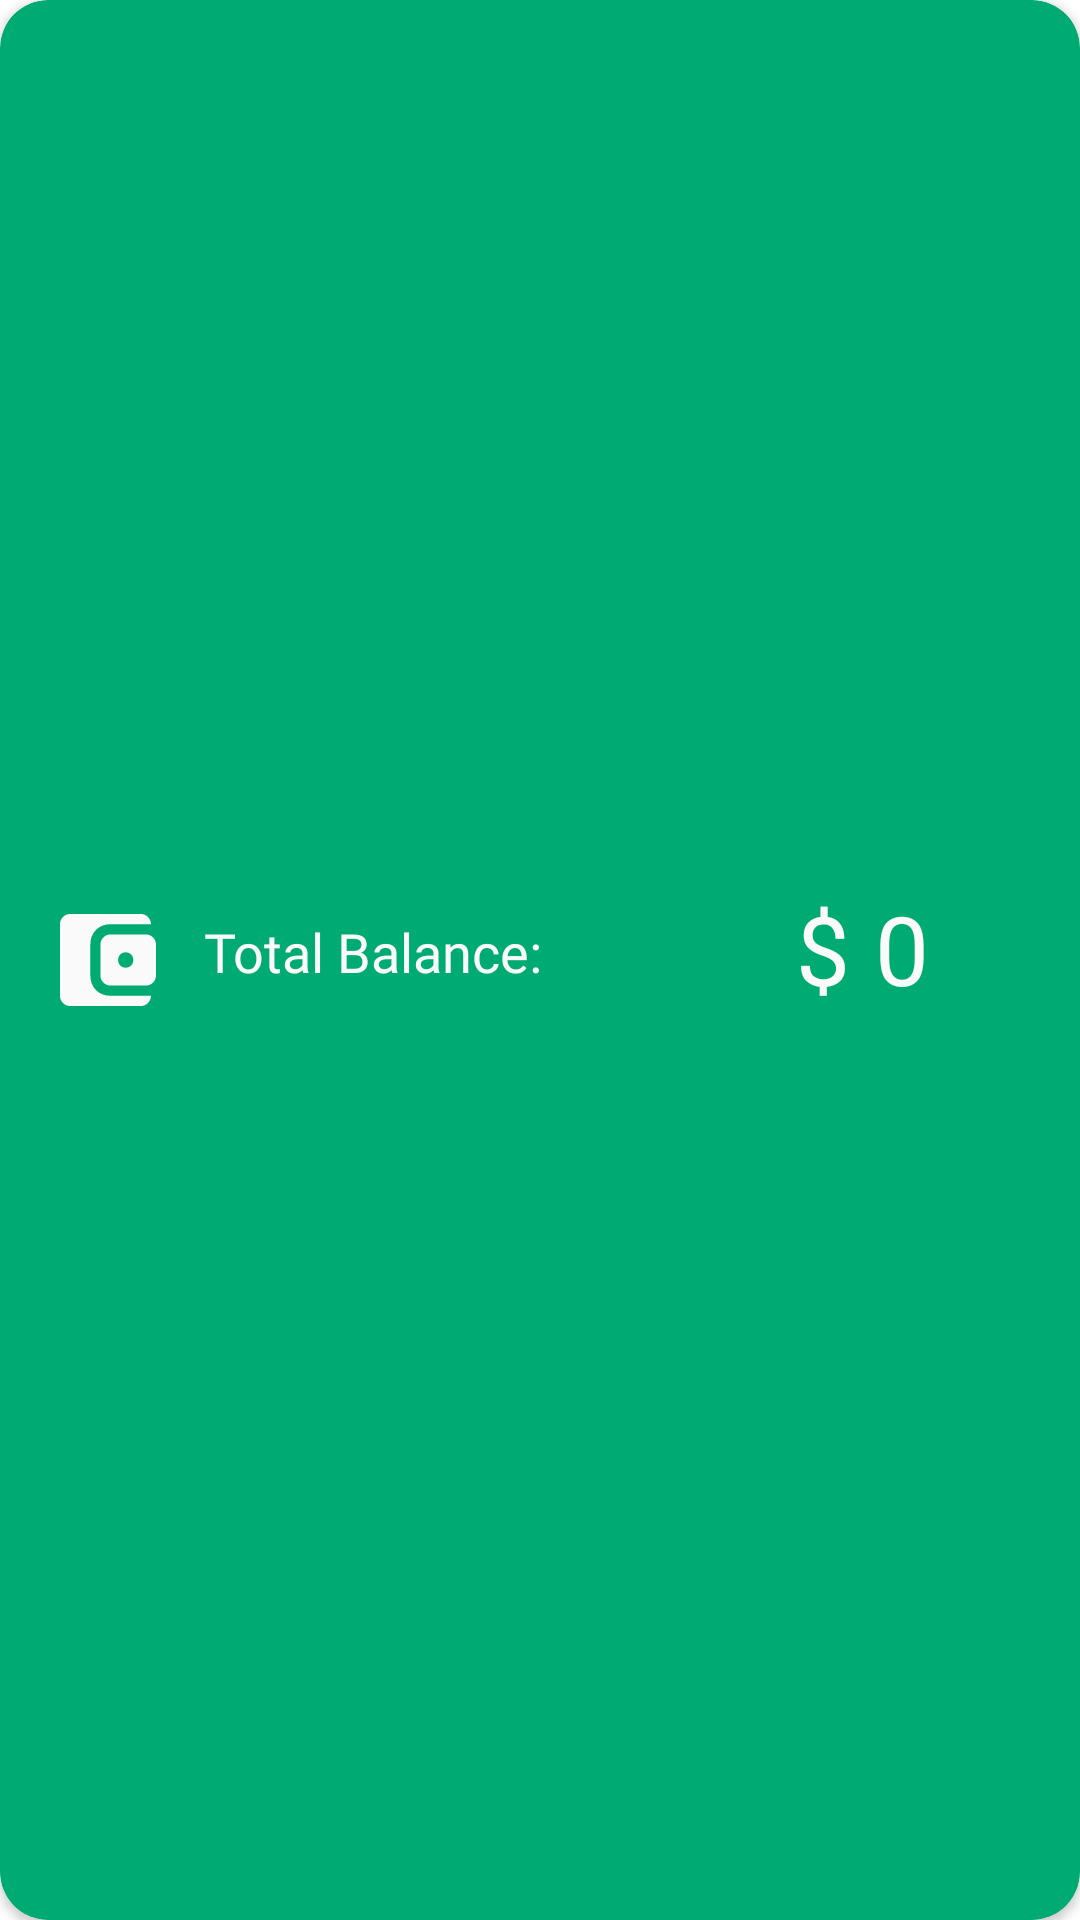

Named icons in this screenshot (1080px×1920px) and their bounding boxes, (left=x1, top=y1, right=x2, bottom=y2):
wallet: (left=60, top=914, right=156, bottom=1006)
